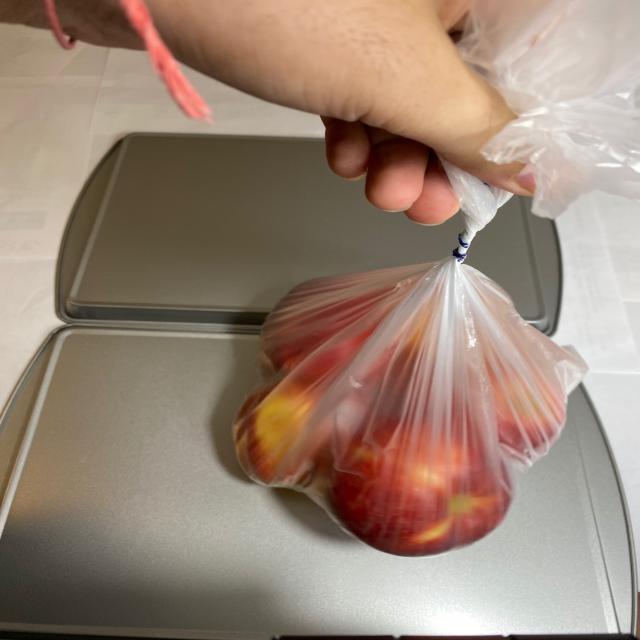apple: (227, 270, 573, 560)
